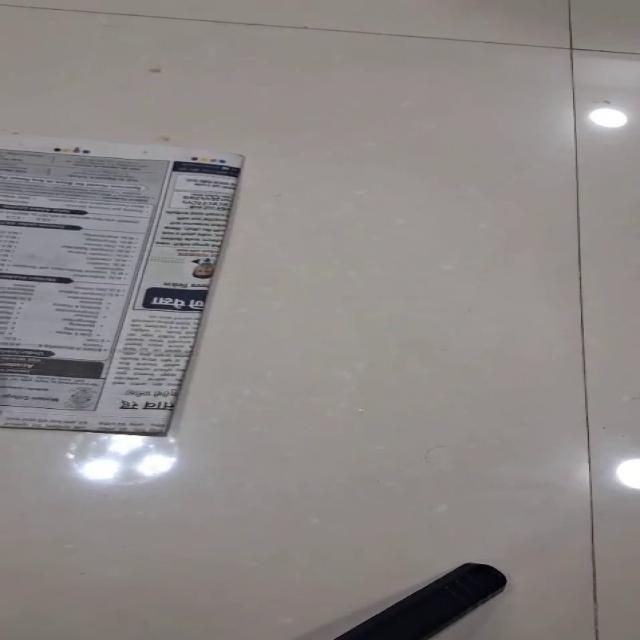paper: (0, 130, 245, 436)
